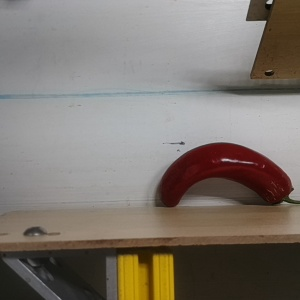Cut Point: (262, 181, 300, 209)
